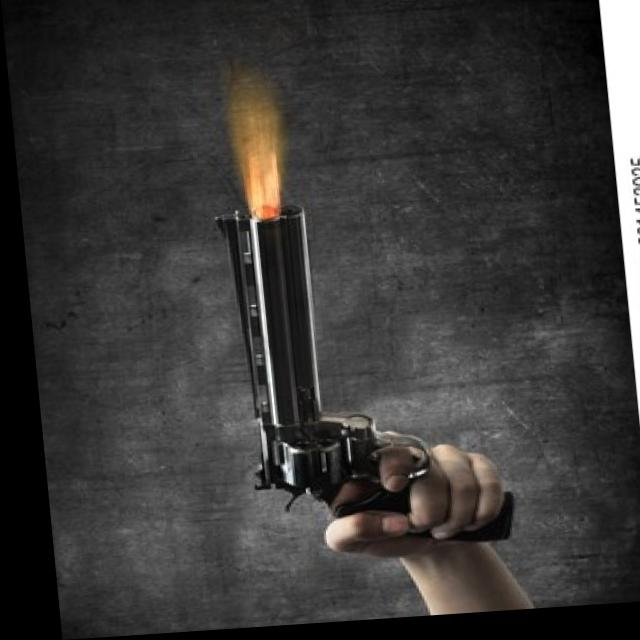handgun: (222, 193, 497, 560)
